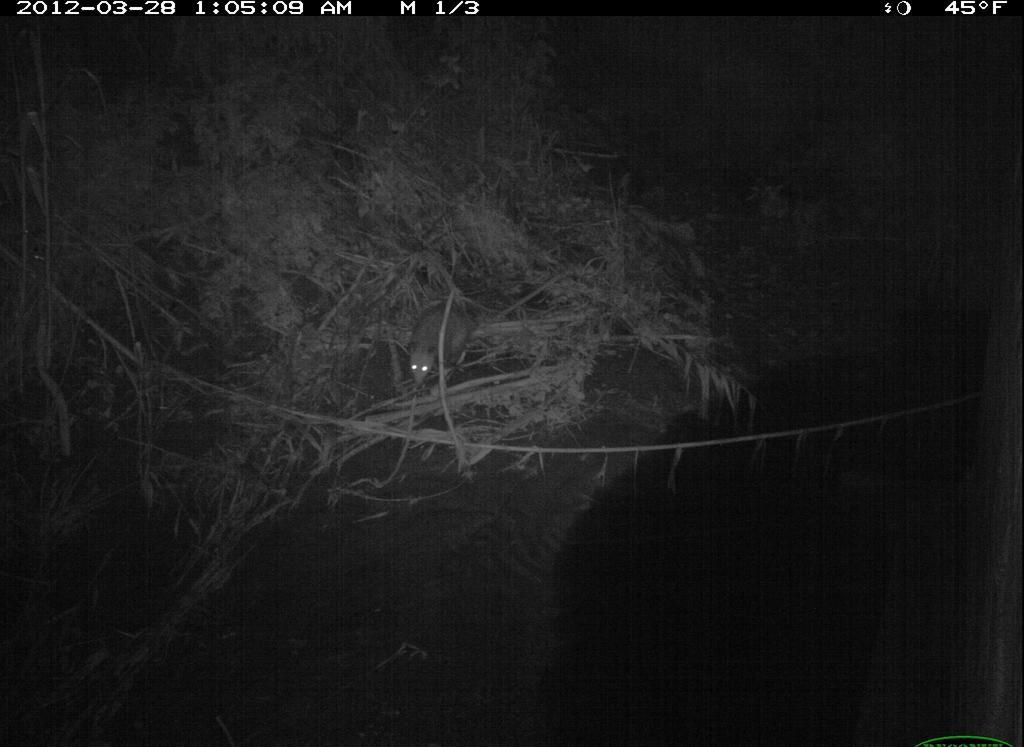opossum: (391, 289, 484, 393)
